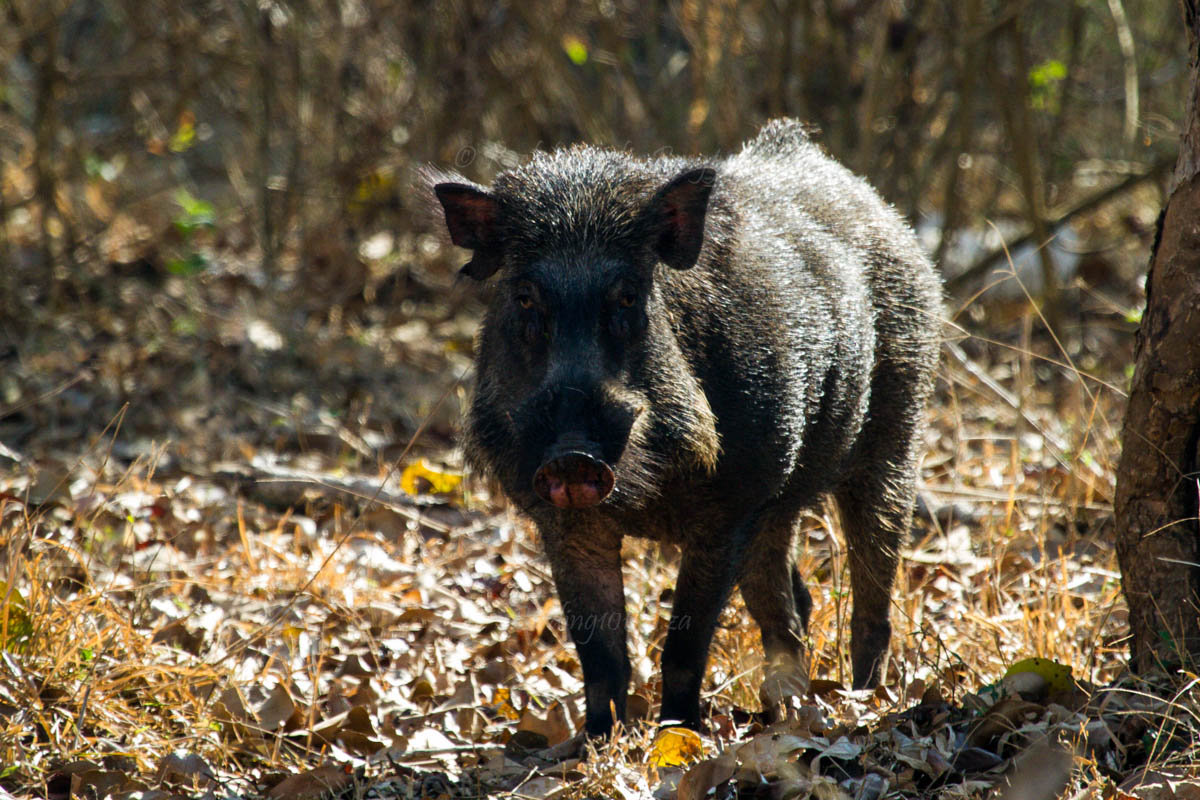wild boar: (412, 112, 1045, 741)
